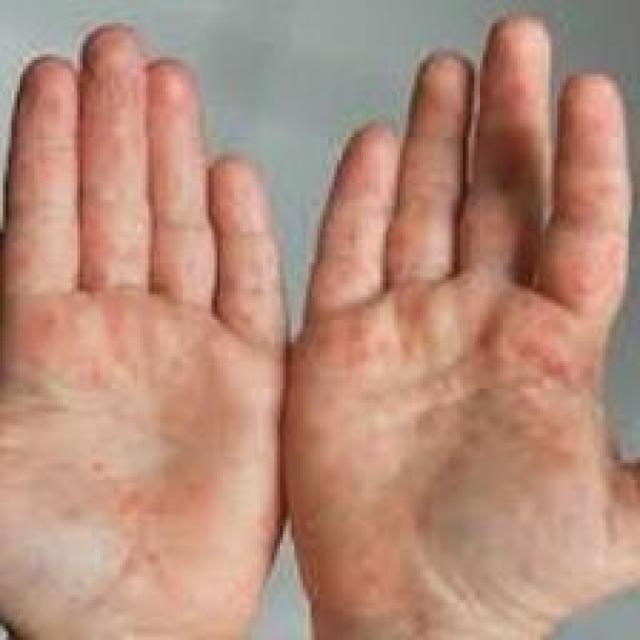others: (3, 34, 640, 640)
